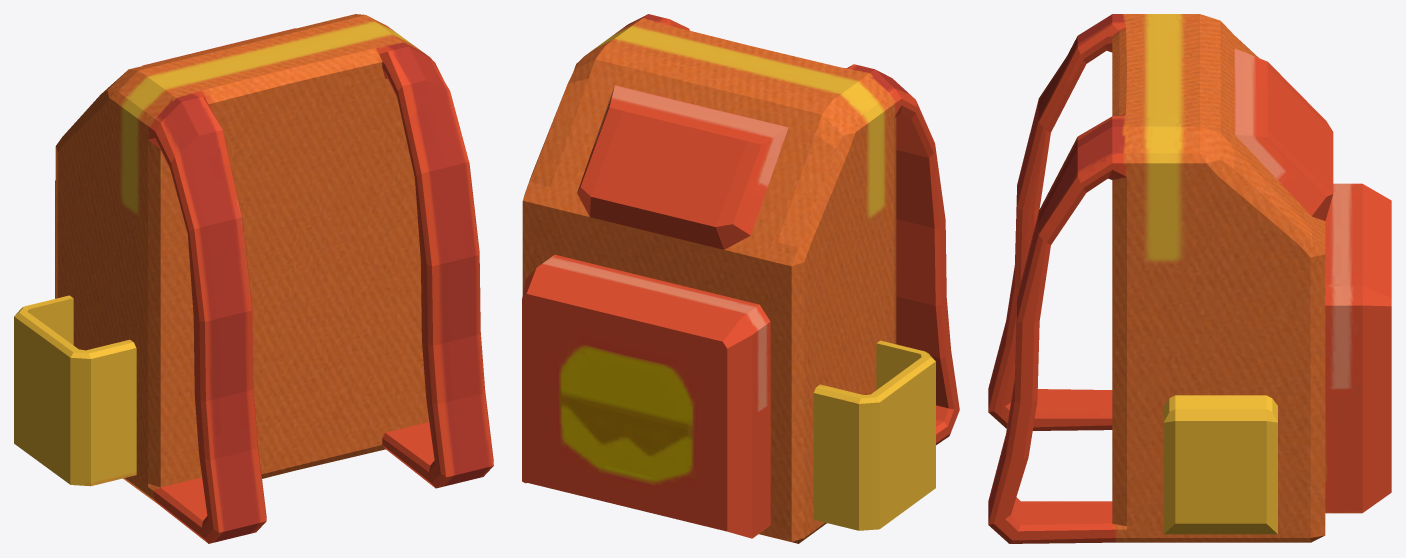
File: BagClosedOrange.fbx
3 renders of one model, left to right at view 1: azimuth 30°, elevation 25°; view 2: azimuth 150°, elevation 25°; view 3: azimuth 270°, elevation 25°, orthographic.
Visible parts, largest first — view 1: backpack shield; view 2: backpack shield; view 3: backpack shield.
Part boxes in pixels (<box>): backpack shield: <box>14,14,493,543</box>; backpack shield: <box>522,14,959,543</box>; backpack shield: <box>988,14,1391,543</box>.
Bounding box in the file's own units: 915 × 962 × 867.
